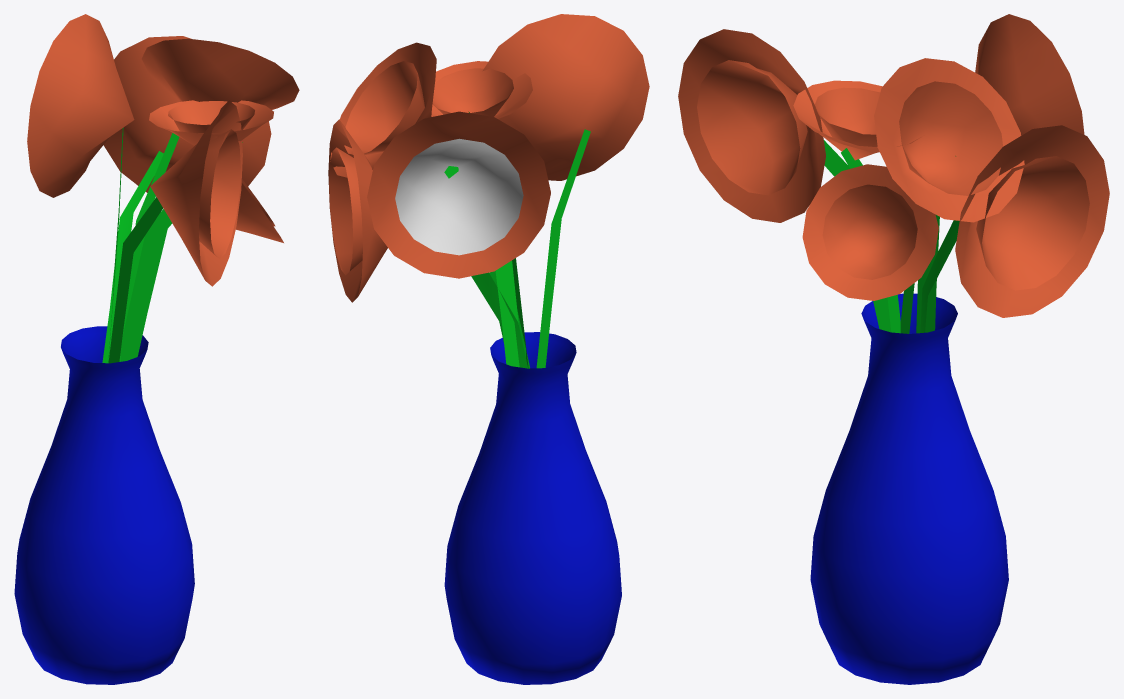
The model's file is Flowers.fbx.
3 views of the same model, side by side, from view 1: azimuth 30°, elevation 25°; view 2: azimuth 150°, elevation 25°; view 3: azimuth 270°, elevation 25° (orthographic). The views are drawn at different scales.
Parts seen in each view (by area): view 1: malja; view 2: malja; view 3: malja.
Boxes of the visible parts, bbox=[...] form: malja: bbox=[14, 14, 299, 684]; malja: bbox=[328, 14, 649, 684]; malja: bbox=[678, 14, 1109, 684].
Bounding box in the file's own units: 0.1656 × 0.3443 × 0.2093.
